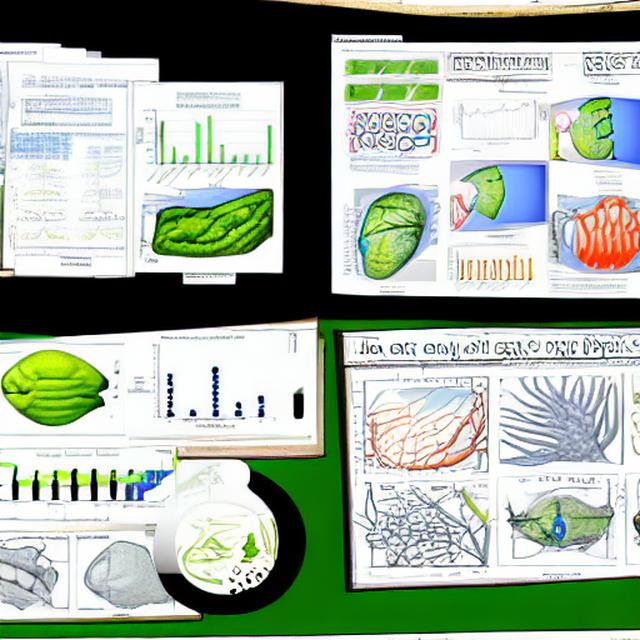Graph: (122, 332, 277, 433), (137, 103, 278, 187), (444, 241, 536, 295), (452, 96, 533, 146), (4, 212, 78, 255)
